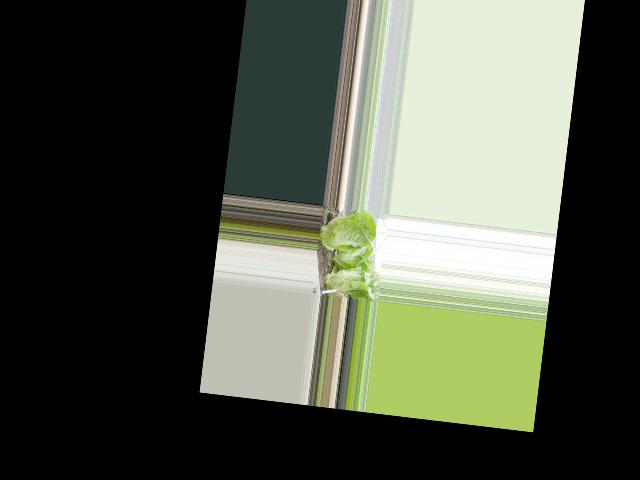lettuce: (317, 261, 377, 297)
